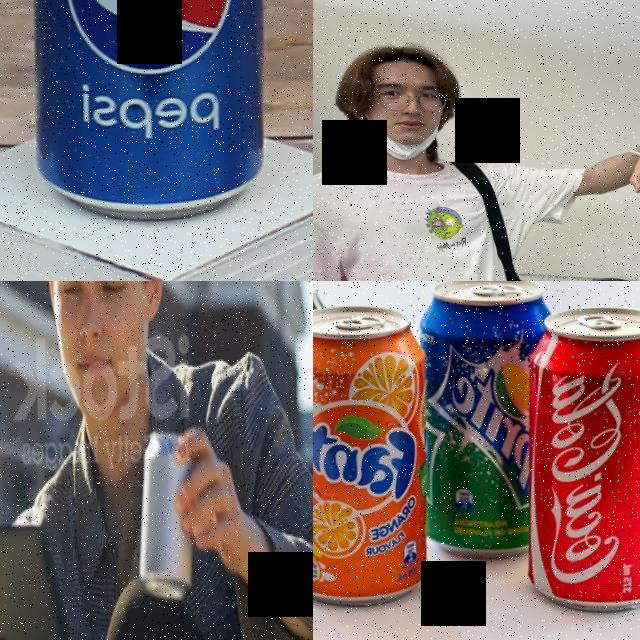can: (26, 0, 269, 223), (416, 281, 553, 555), (522, 302, 640, 612), (313, 302, 431, 606), (137, 425, 196, 605)
